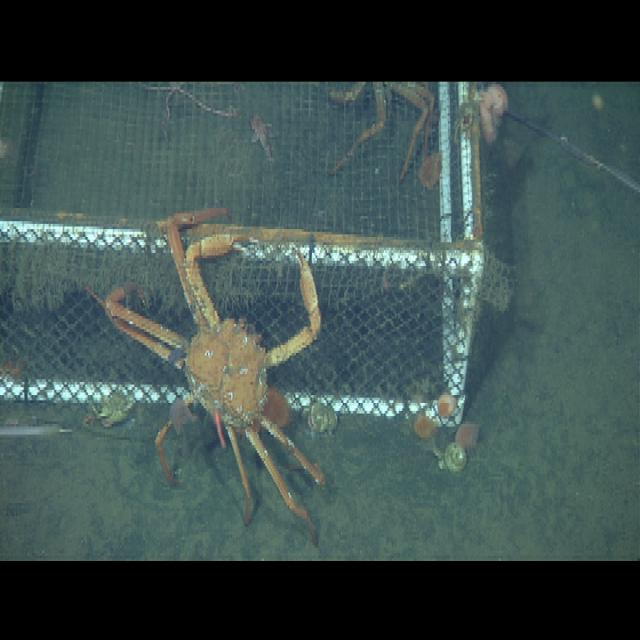Brittle Star: (139, 84, 238, 138)
